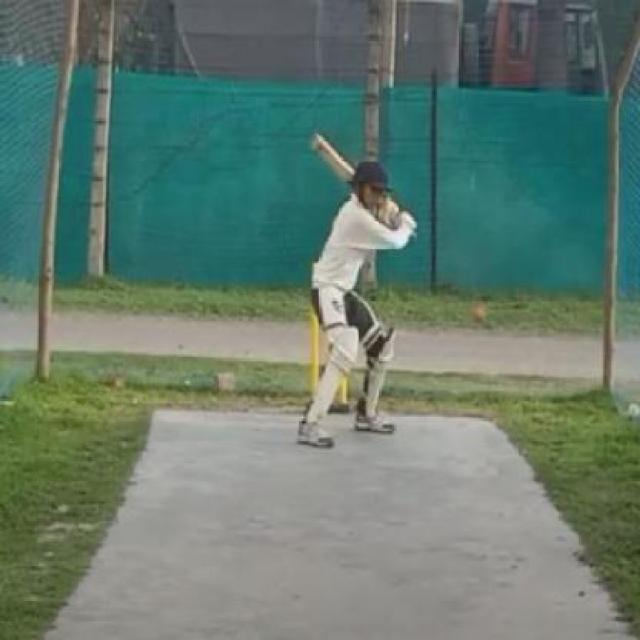ball: (466, 298, 488, 329)
